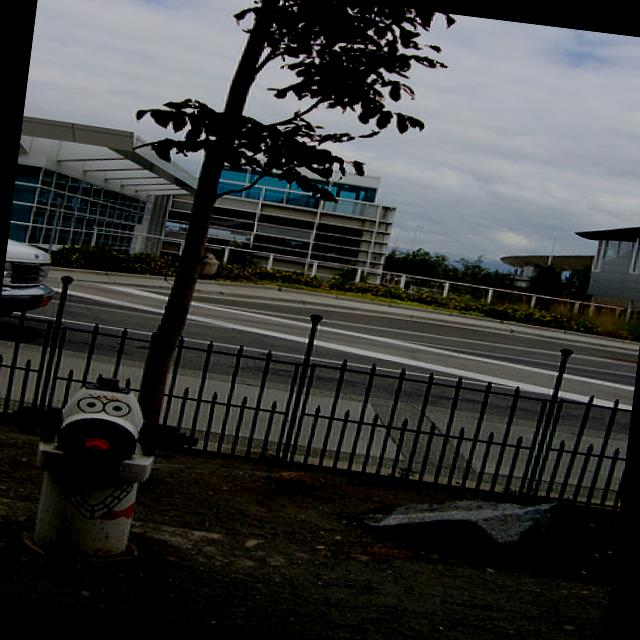Vehicle: (0, 225, 60, 331)
